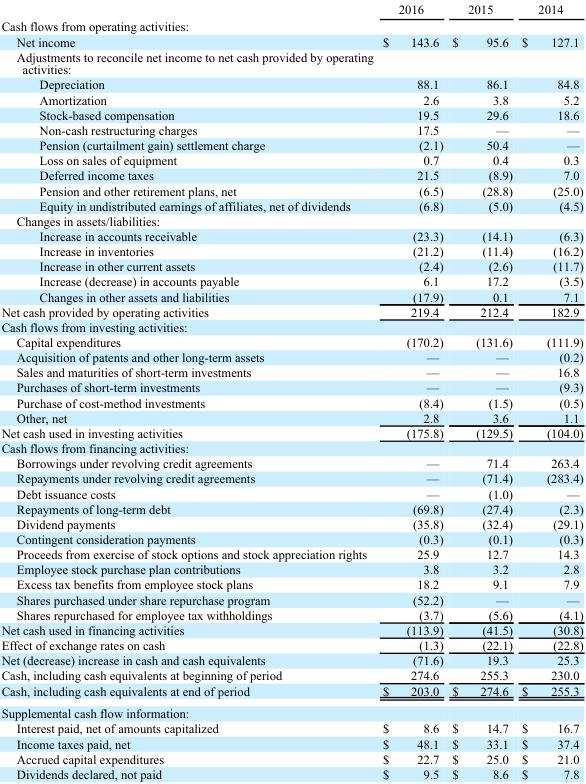table: (0, 1, 582, 780)
table column: (0, 1, 374, 780), (374, 1, 447, 780), (447, 1, 516, 780), (516, 1, 582, 780)
table column header: (0, 1, 582, 17)
table projected row header: (0, 48, 582, 76), (0, 701, 582, 720), (0, 17, 582, 33), (0, 212, 582, 228), (0, 319, 582, 334), (0, 440, 582, 455)
table row: (0, 48, 582, 76), (0, 682, 582, 701), (0, 701, 582, 720), (0, 1, 582, 17), (0, 17, 582, 33), (0, 106, 582, 122), (0, 212, 582, 228), (0, 303, 582, 319), (0, 409, 582, 425), (0, 500, 582, 516), (0, 606, 582, 622), (0, 750, 582, 766), (0, 33, 582, 48), (0, 76, 582, 91), (0, 91, 582, 106), (0, 122, 582, 137), (0, 137, 582, 152), (0, 152, 582, 167), (0, 167, 582, 182), (0, 182, 582, 197), (0, 197, 582, 212), (0, 228, 582, 243), (0, 243, 582, 258), (0, 258, 582, 273), (0, 273, 582, 288), (0, 288, 582, 303), (0, 319, 582, 334), (0, 334, 582, 349), (0, 349, 582, 364), (0, 364, 582, 379), (0, 379, 582, 394), (0, 394, 582, 409), (0, 425, 582, 440), (0, 440, 582, 455), (0, 455, 582, 470), (0, 470, 582, 485), (0, 485, 582, 500), (0, 516, 582, 531), (0, 531, 582, 546), (0, 546, 582, 561), (0, 561, 582, 576), (0, 576, 582, 591), (0, 591, 582, 606), (0, 622, 582, 637), (0, 637, 582, 652), (0, 652, 582, 667), (0, 667, 582, 682), (0, 720, 582, 735), (0, 735, 582, 750), (0, 766, 582, 780)
